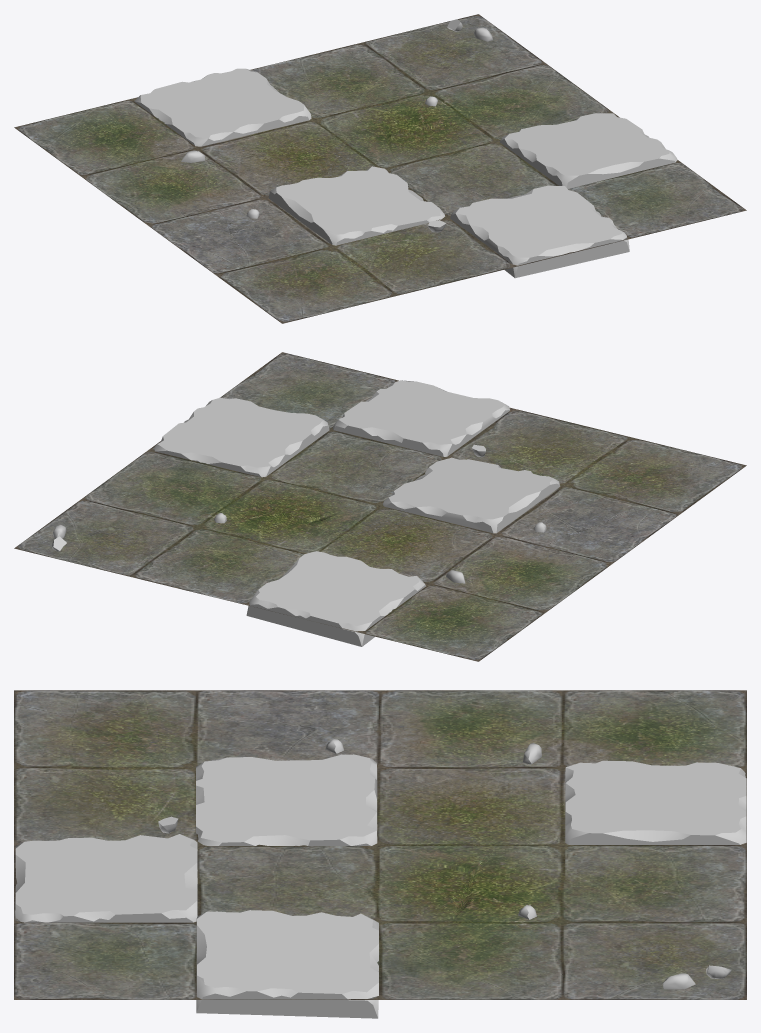
Rendered from Floor_Lvl3_21.fbx.
The picture shows the model from 3 angles, top to bottom: view 1: azimuth 30°, elevation 25°; view 2: azimuth 150°, elevation 25°; view 3: azimuth 270°, elevation 25°; orthographic projection. The views are drawn at different scales.
Parts seen in each view (by area): view 1: StoneFloor.002; view 2: StoneFloor.002; view 3: StoneFloor.002.
Boxes of the visible parts, x1,y1,x2,y2 form: StoneFloor.002: (14, 14, 746, 323); StoneFloor.002: (14, 352, 746, 661); StoneFloor.002: (14, 690, 746, 1018).
Bounding box in the file's own units: 382 × 20.6 × 382.
